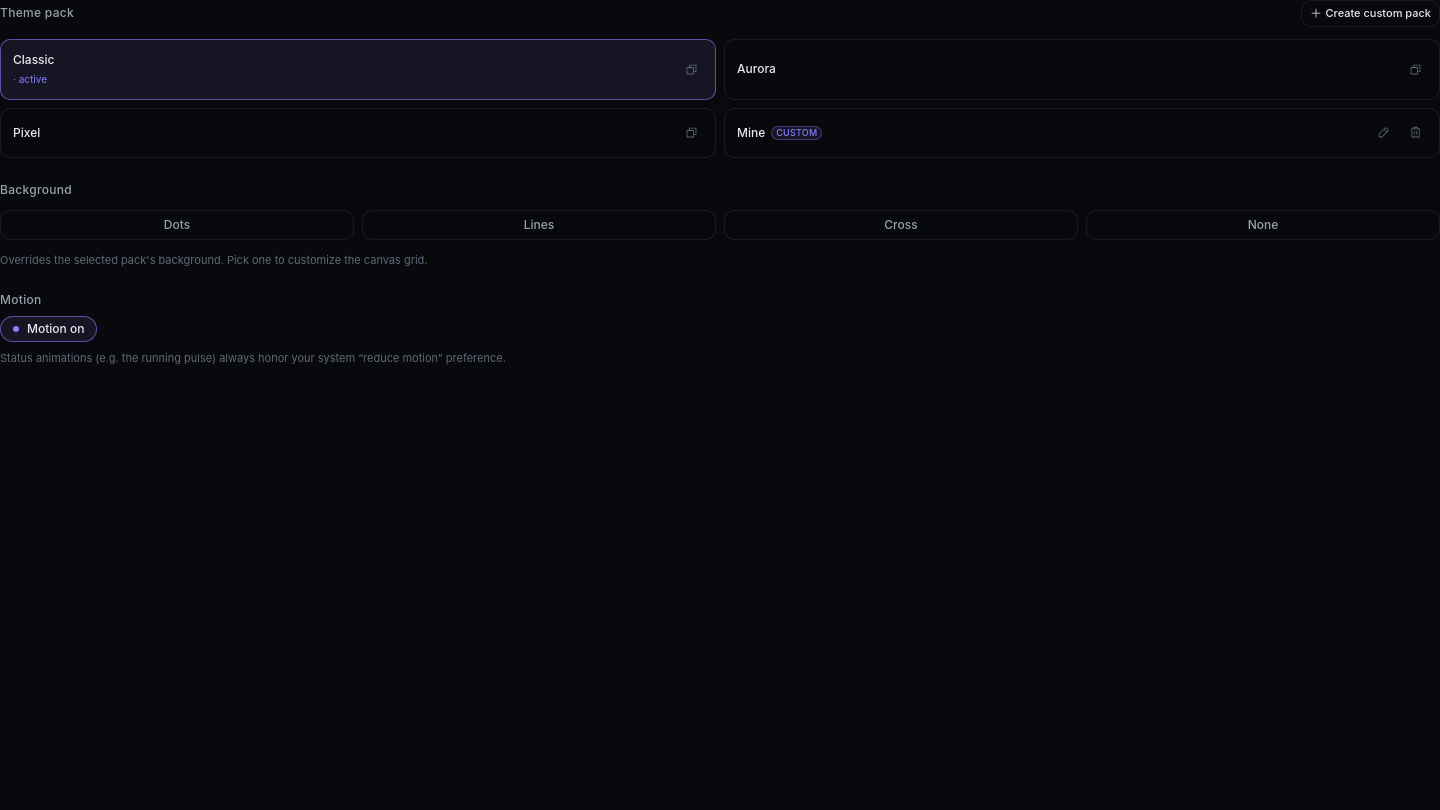
Test case: AppearanceSettings › edits an existing custom pack via its Edit button
This screenshot has width=1440, height=810.
Click the button named "Edit Mine" at (1383, 132), box [1371, 120, 1395, 144]
(page scrolled)
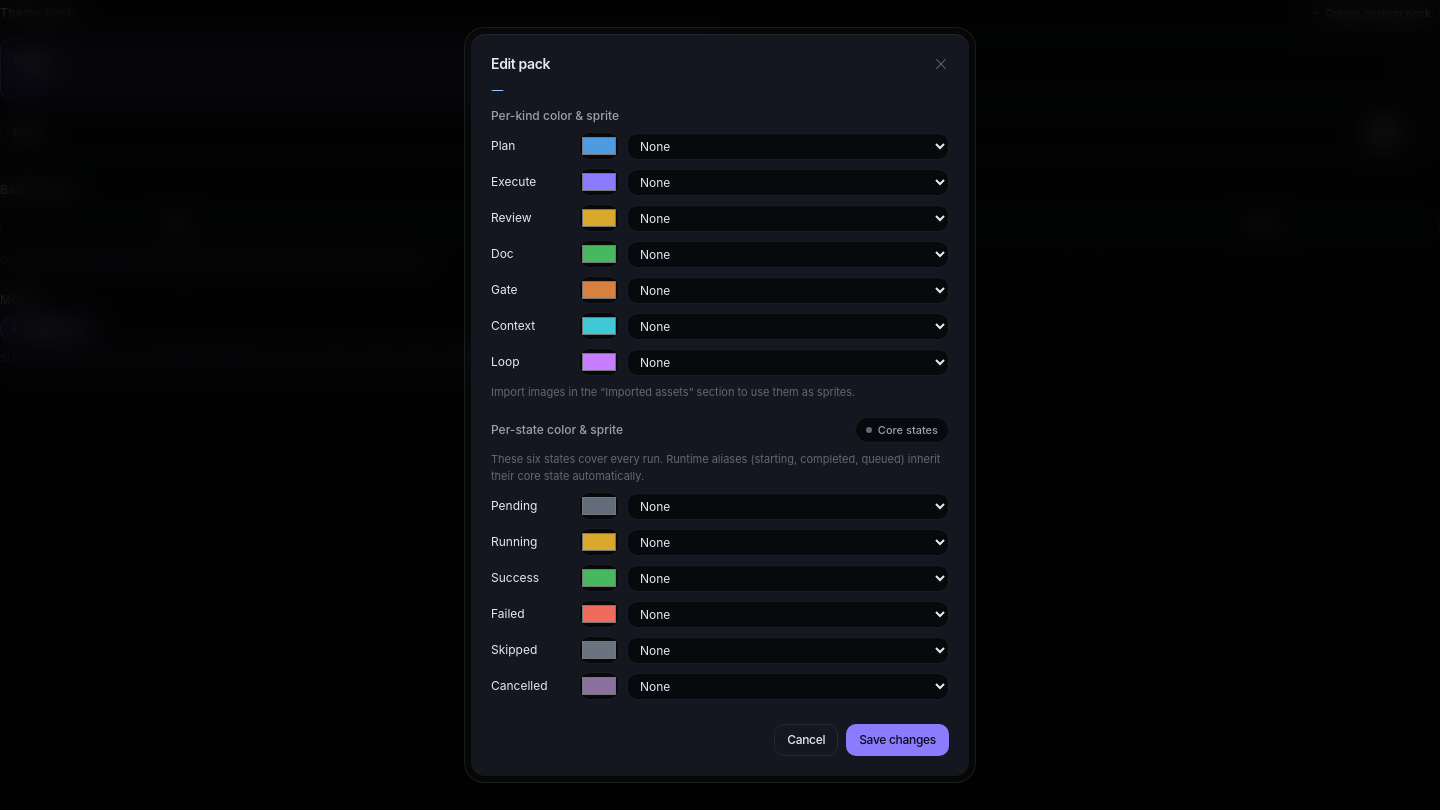
expect the button "Save changes" is shown: met, box [846, 724, 949, 756]
